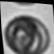correct: (3, 12, 54, 54)
